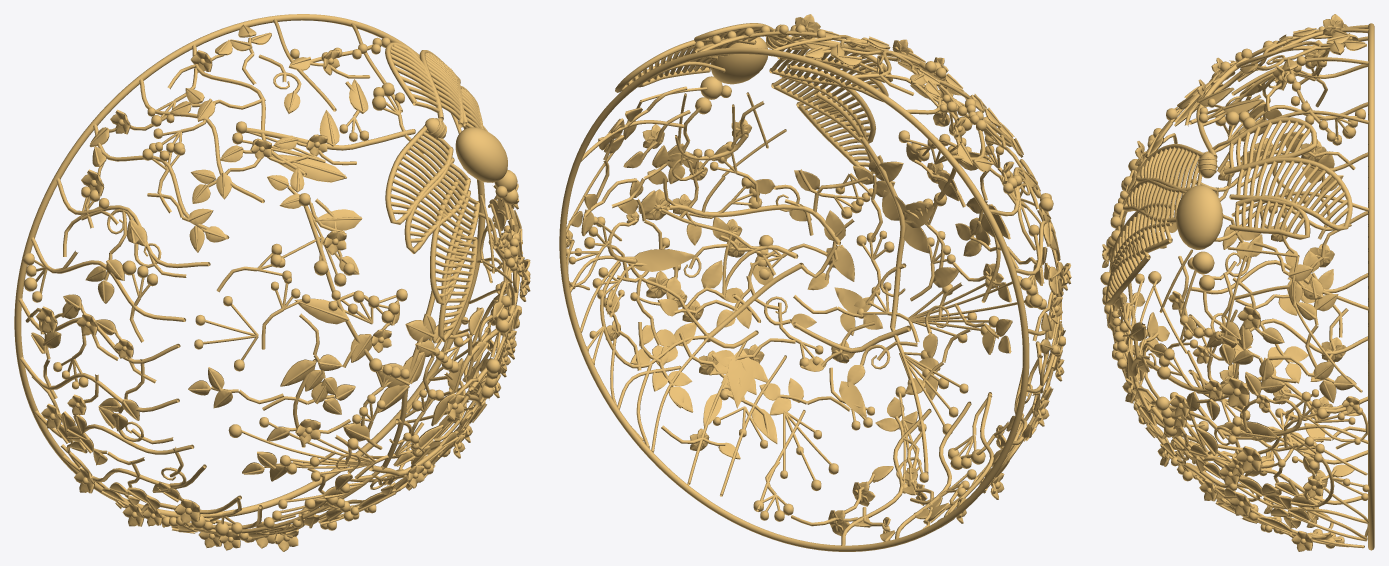
File: bun-cage.glb
The picture shows the model from 3 angles, left to right: view 1: azimuth 30°, elevation 25°; view 2: azimuth 150°, elevation 25°; view 3: azimuth 270°, elevation 25°; orthographic projection. The views are drawn at different scales.
Parts seen in each view (by area): view 1: piece_Gold; view 2: piece_Gold; view 3: piece_Gold.
Boxes of the visible parts, x1,y1,x2,y2 form: piece_Gold: [14, 14, 530, 551]; piece_Gold: [559, 14, 1071, 551]; piece_Gold: [1100, 14, 1374, 551].
Size of the model in its own units: 0.103 by 0.1035 by 0.0527.
